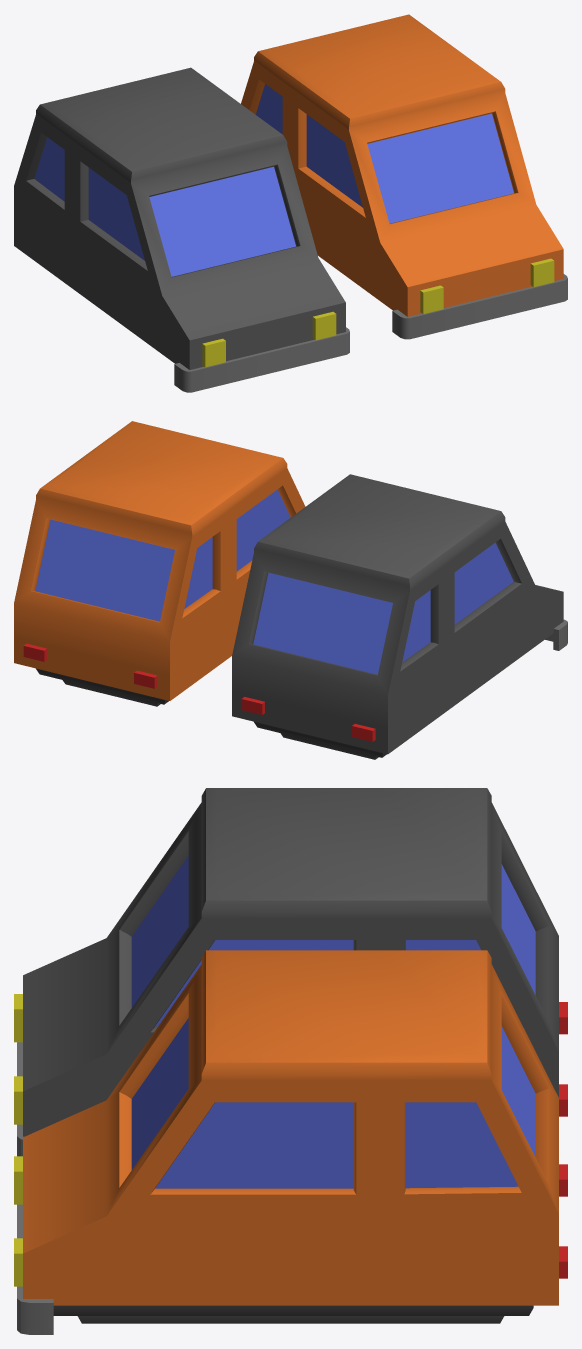
File: CarModels.fbx
3 renders of one model, top to bottom at view 1: azimuth 30°, elevation 25°; view 2: azimuth 150°, elevation 25°; view 3: azimuth 270°, elevation 25°, orthographic. The views are drawn at different scales.
Visible parts, largest first — view 1: MainCharacter, MainCharacter.001; view 2: MainCharacter, MainCharacter.001; view 3: MainCharacter.001, MainCharacter.
Boxes of the visible parts, x1=… form: MainCharacter: x1=14, y1=67, x2=349, y2=392; MainCharacter.001: x1=241, y1=14, x2=567, y2=339; MainCharacter: x1=232, y1=474, x2=567, y2=759; MainCharacter.001: x1=14, y1=421, x2=305, y2=706; MainCharacter.001: x1=14, y1=950, x2=567, y2=1334; MainCharacter: x1=14, y1=788, x2=567, y2=1156.
Size of the model in its own units: 462 by 219 by 378.
